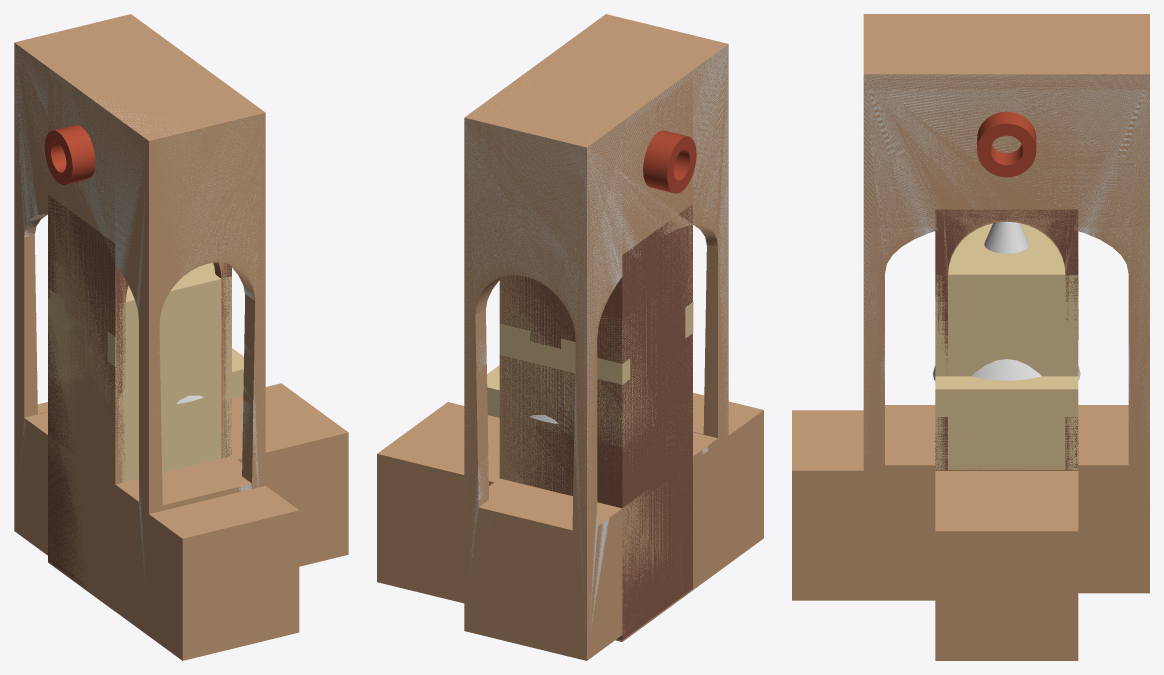
File: lift.fbx
3 renders of one model, left to right at view 1: azimuth 30°, elevation 25°; view 2: azimuth 150°, elevation 25°; view 3: azimuth 270°, elevation 25°, orthographic. The views are drawn at different scales.
Visible parts, largest first — view 1: brug_1, Cube_1_2, tunnel_1, Cube_5, zij_rand_af, zij_rand, sand, Cube, Cube_1, Cube_1_3, rand; view 2: brug_1, Cube_1_2, tunnel_1, Cube_5, zij_rand_af, hoek, Cube_1_3, zij_rand; view 3: brug_1, Cube_1_2, Cube_5, zij_rand, zij_rand_af, Cube_1_3, tunnel_1, Cone, Cube, sand.
Boxes of the visible parts, x1,y1,x2,y2 form: brug_1: (14, 14, 265, 629); Cube_1_2: (44, 74, 348, 660); tunnel_1: (48, 195, 231, 588); Cube_5: (14, 45, 265, 579); zij_rand_af: (48, 261, 243, 424); zij_rand: (48, 258, 243, 422); sand: (48, 269, 231, 420); Cube: (117, 338, 231, 456); Cube_1: (48, 318, 227, 482); Cube_1_3: (48, 318, 77, 448); rand: (48, 288, 128, 363); brug_1: (464, 14, 728, 660); Cube_1_2: (377, 77, 763, 641); tunnel_1: (499, 204, 692, 640); Cube_5: (464, 44, 728, 631); zij_rand_af: (487, 284, 691, 445); hoek: (499, 302, 693, 384); Cube_1_3: (499, 356, 679, 500); zij_rand: (499, 278, 689, 447); brug_1: (863, 14, 1149, 593); Cube_1_2: (792, 81, 1078, 660); Cube_5: (863, 74, 1149, 495); zij_rand: (935, 224, 1078, 416); zij_rand_af: (935, 223, 1078, 416); Cube_1_3: (935, 417, 1078, 469); tunnel_1: (935, 209, 1078, 470); Cone: (933, 221, 1080, 380); Cube: (935, 417, 993, 469); sand: (935, 275, 1078, 372).
Bounding box in the file's own units: 220 × 406 × 250.
